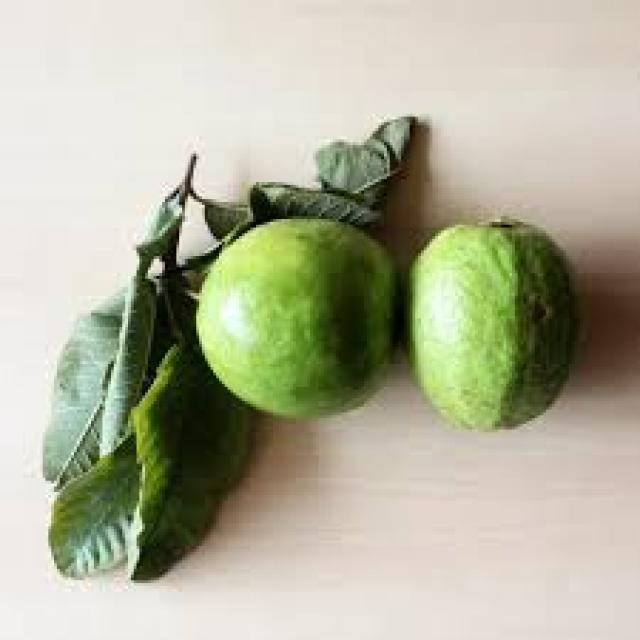Guava: (205, 220, 394, 422), (415, 223, 570, 421)
